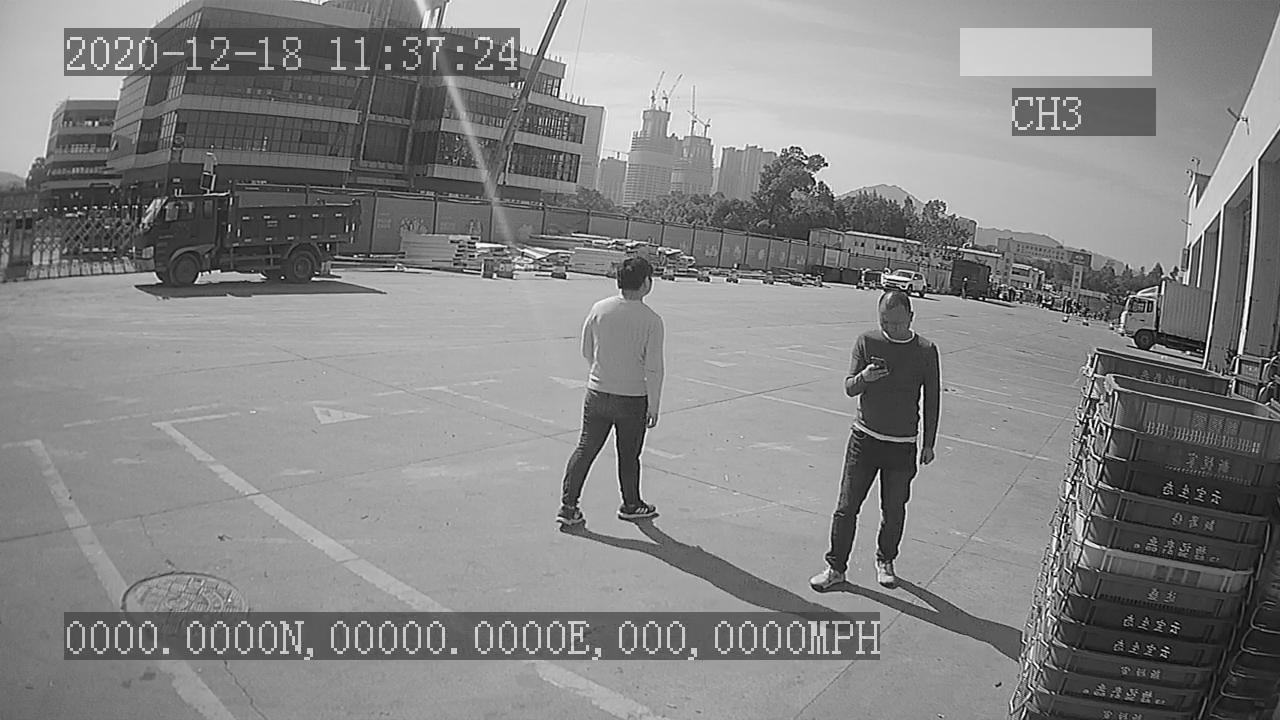person: (807, 289, 942, 594), (555, 253, 675, 527)
